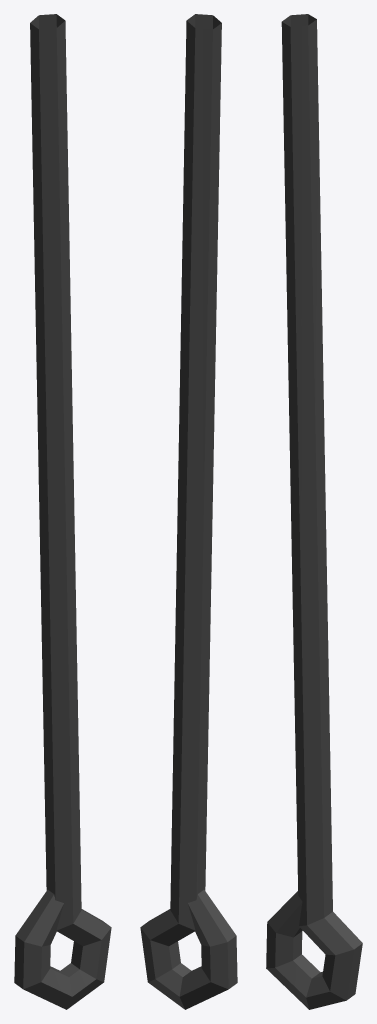
File: rope_3.FBX
3 renders of one model, left to right at view 1: azimuth 30°, elevation 25°; view 2: azimuth 150°, elevation 25°; view 3: azimuth 330°, elevation 25°, orthographic.
Parts seen in each view (by area): view 1: rope_3; view 2: rope_3; view 3: rope_3.
Part boxes in pixels (box(x1,y1,x2,y2)): rope_3: box(14, 14, 111, 1009); rope_3: box(140, 14, 237, 1009); rope_3: box(266, 14, 362, 1009).
Size of the model in its own units: 2.87 by 30.71 by 1.
